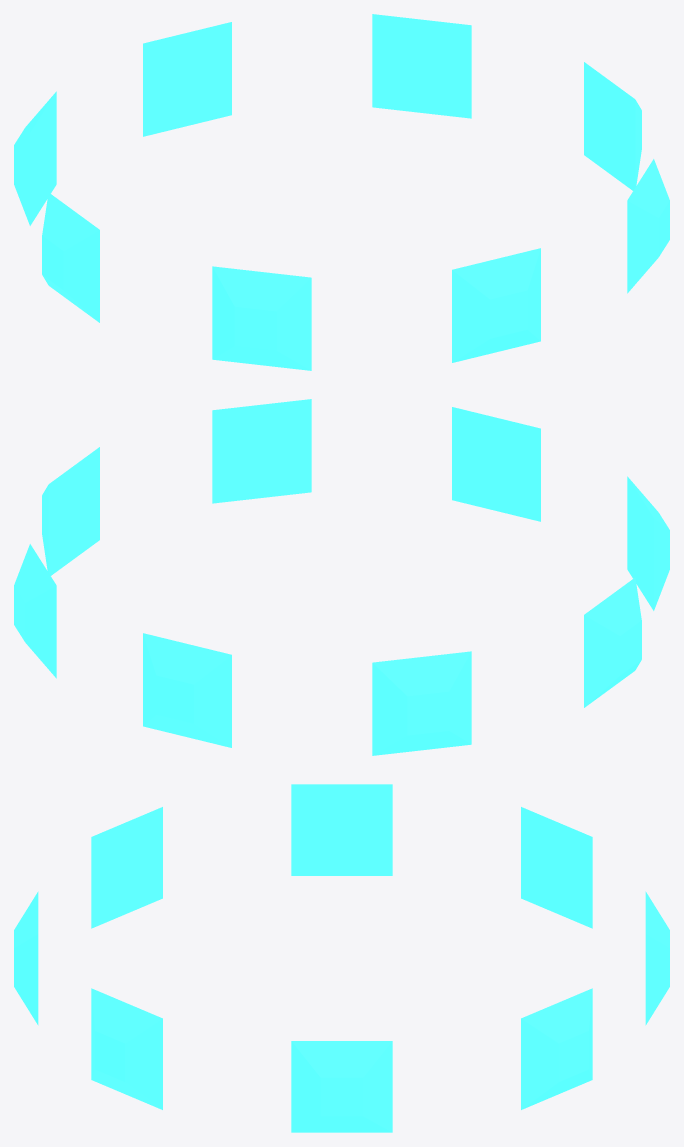
The model's file is shield.fbx.
3 renders of one model, top to bottom at view 1: azimuth 30°, elevation 25°; view 2: azimuth 150°, elevation 25°; view 3: azimuth 270°, elevation 25°, orthographic.
Parts seen in each view (by area): view 1: Shield; view 2: Shield; view 3: Shield.
Part boxes in pixels (x1,y1,x2,y2): Shield: (14, 14, 669, 370); Shield: (14, 399, 669, 755); Shield: (14, 784, 669, 1132).
Size of the model in its own units: 1296 by 200 by 1296.
